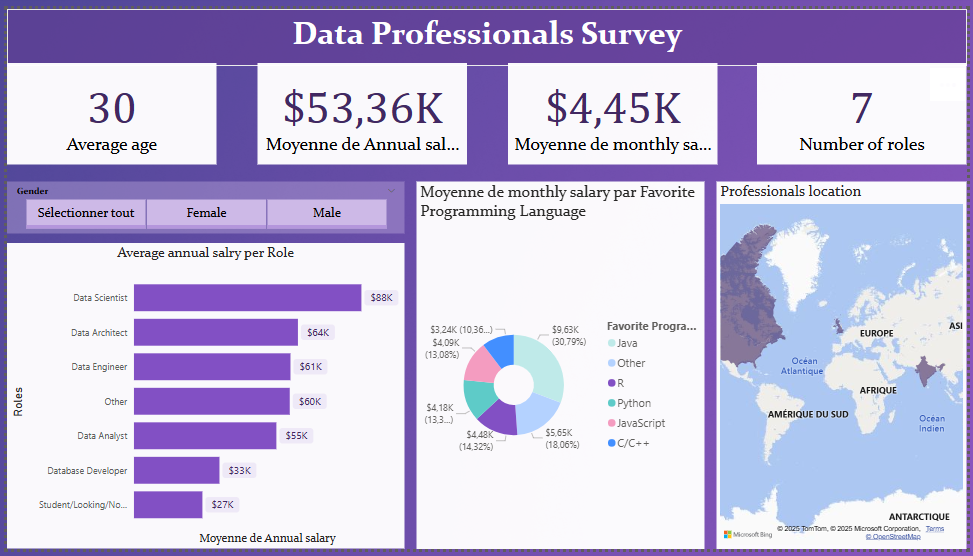

The page's visual inventory and layout, read from the dashboard file:
{"tool":"powerbi","page":{"name":"Dashboard","canvas":[1280,720],"ordinal":0},"visuals":[{"type":"textbox","box":[0,0,1280.2,76.3],"z":0},{"type":"card","fields":{"Values":["Data Professional Survey.average age"]},"box":[0,72.9,279.4,135.4],"z":1000},{"type":"card","fields":{"Values":["Avg(Data Professional Survey.Average salary)"]},"box":[333.6,72.9,279.4,135.4],"z":2000},{"type":"card","fields":{"Values":["Avg(Data Professional Survey.Average monthly salary )"]},"box":[667.2,72.9,279.4,135.4],"z":3000},{"type":"card","fields":{"Values":["Count(Data Professional Survey.Q1 - Which Title Best Fits your Current Role?.1)"]},"box":[1000.6,72.9,279.4,135.4],"z":4000},{"type":"clusteredBarChart","title":"Average annual salry per Role","fields":{"Y":["Avg(Data Professional Survey.Annual salary)"],"Category":["Data Professional Survey.Q1 - Which Title Best Fits your Current Role?.1"]},"box":[0,313,530,407.5],"z":5000},{"type":"slicer","fields":{"Values":["Data Professional Survey.Q9 - Male/Female?"]},"box":[0,230.3,530,69.4],"z":6000},{"type":"filledMap","title":"Professionals location","fields":{"Category":["Data Professional Survey.Q11 - Which Country do you live in?.1"]},"box":[946.3,230.3,333.7,490.1],"z":7000},{"type":"donutChart","fields":{"Category":["Data Professional Survey.Q5 - Favorite Programming Language.1"],"Y":["Avg(Data Professional Survey.monthly salary )"]},"box":[546.3,230.3,383.9,490.1],"z":8000}]}

Visuals, with their boxes in screenshot pixels (x1, y1, x2, y2), scaled from the page's 1280x720 canvas onto the 973x556 screenshot:
textbox: pyautogui.locateOnScreen(0, 0, 972, 59)
card - Data Professional Survey.average age: pyautogui.locateOnScreen(0, 56, 212, 161)
card - Avg(Data Professional Survey.Average salary): pyautogui.locateOnScreen(254, 56, 466, 161)
card - Avg(Data Professional Survey.Average monthly salary ): pyautogui.locateOnScreen(507, 56, 720, 161)
card - Count(Data Professional Survey.Q1 - Which Title Best Fits your Current Role?.1): pyautogui.locateOnScreen(761, 56, 972, 161)
"Average annual salry per Role" clusteredBarChart: pyautogui.locateOnScreen(0, 242, 403, 555)
slicer - Data Professional Survey.Q9 - Male/Female?: pyautogui.locateOnScreen(0, 178, 403, 231)
"Professionals location" filledMap: pyautogui.locateOnScreen(719, 178, 972, 555)
donutChart - Data Professional Survey.Q5 - Favorite Programming Language.1 x Avg(Data Professional Survey.monthly salary ): pyautogui.locateOnScreen(415, 178, 707, 555)
